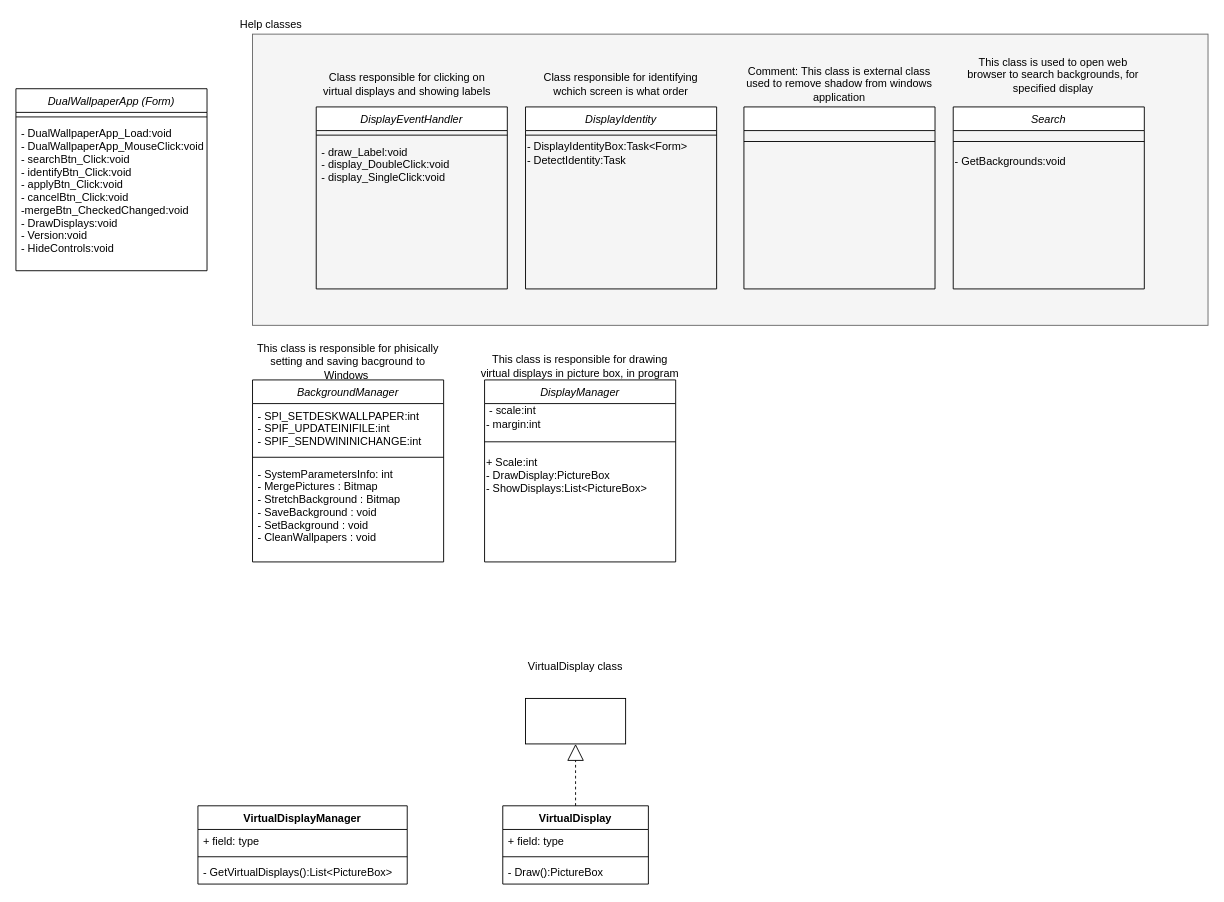
Image size: 1224x902. Some labels were removed from this diagram. Here are the shapes that lost their labels. From the top down, the centre of each, then its label:
At (839,197): "DropShadow".
At (575,721): "«interface» IVirtualDisplay".
